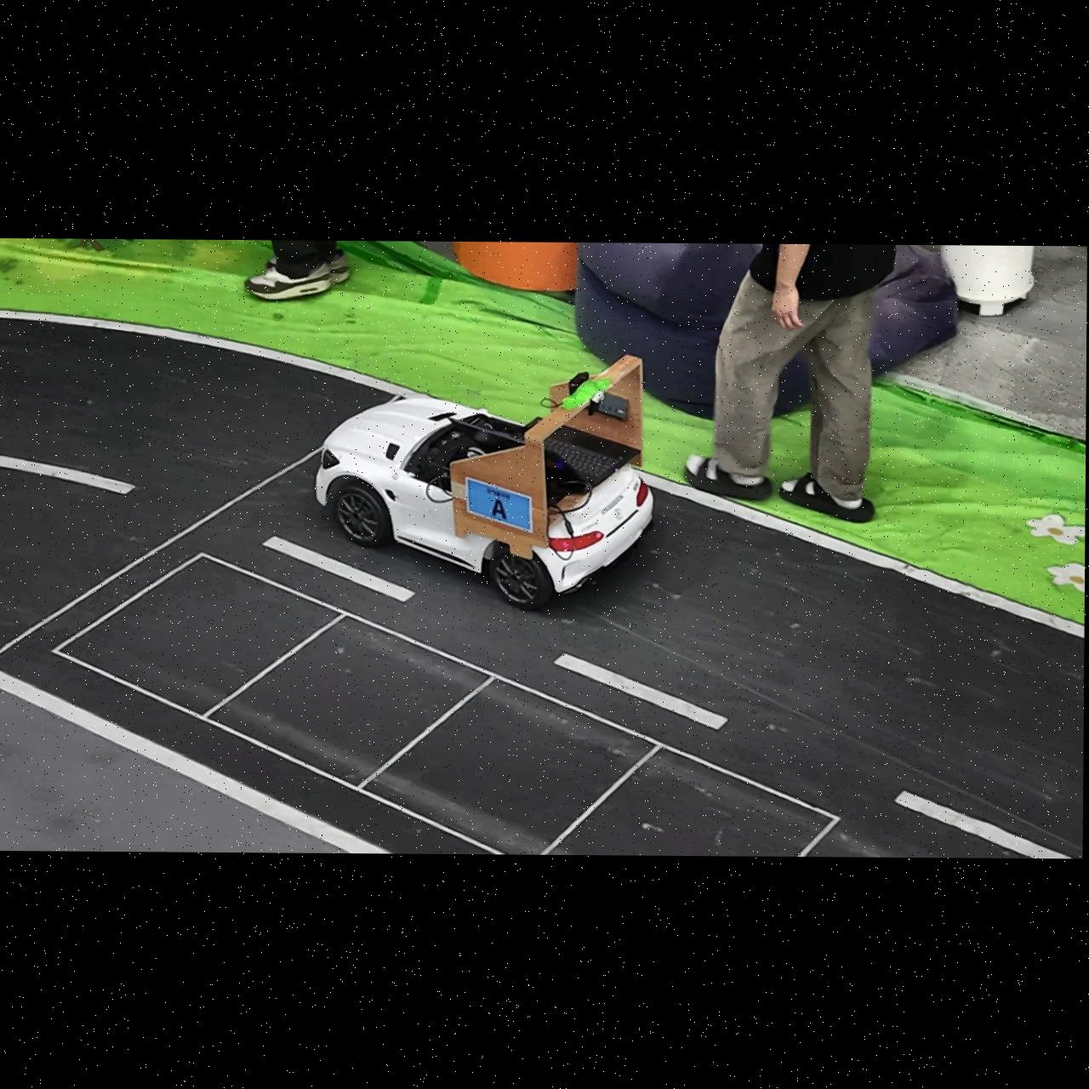broken_line: (556, 654, 727, 729), (895, 791, 1071, 858), (263, 536, 414, 601), (0, 455, 134, 494)
